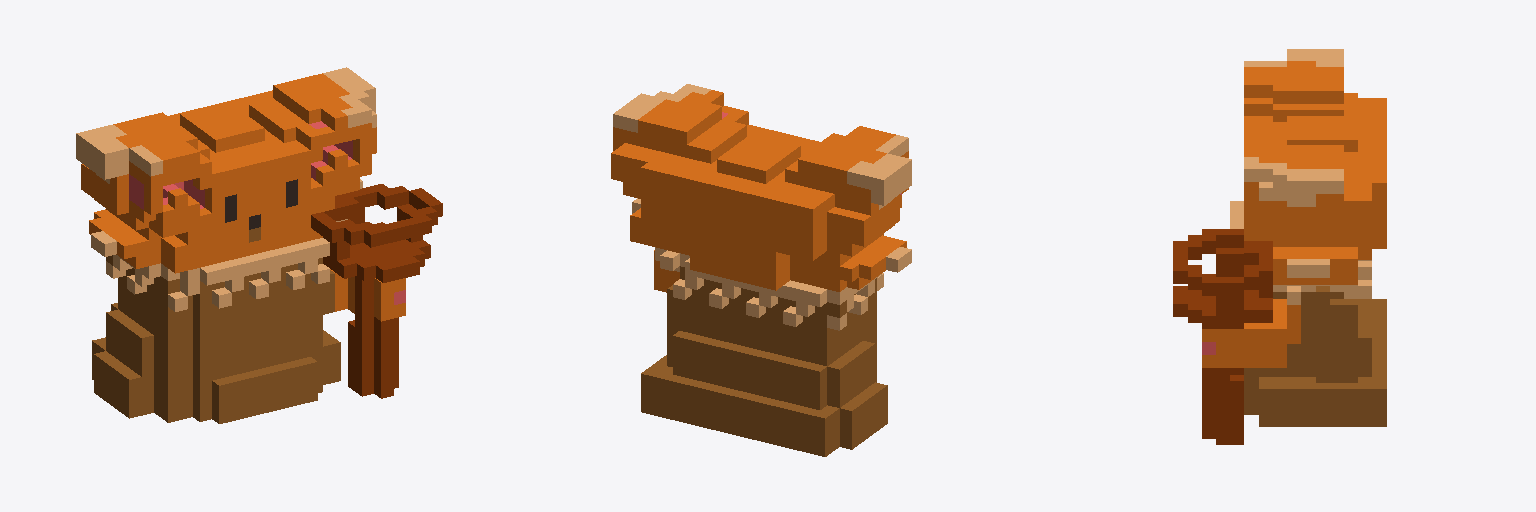
3 views of the same model, side by side, from view 1: azimuth 30°, elevation 25°; view 2: azimuth 150°, elevation 25°; view 3: azimuth 270°, elevation 25° (orthographic).
Parts seen in each view (by area): view 1: object 1; view 2: object 1; view 3: object 1.
Boxes of the visible parts, box(x1,y1,x2,y2) form: object 1: box(76, 67, 442, 423); object 1: box(611, 84, 911, 456); object 1: box(1173, 49, 1386, 444).
Size of the model in its own units: 2.4 by 2.1 by 1.5.
Materials: 1 (1 with a texture image).